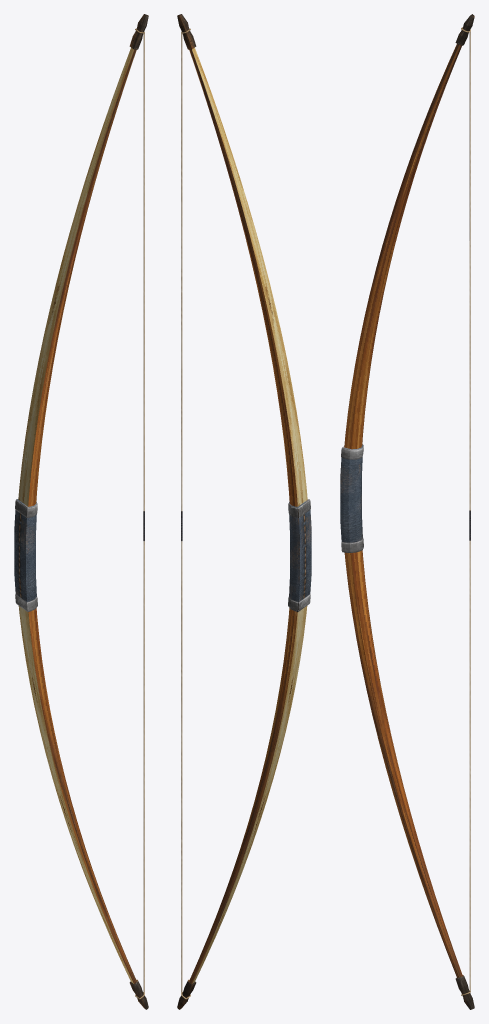
The model's file is long-bow.glb.
3 renders of one model, left to right at view 1: azimuth 30°, elevation 25°; view 2: azimuth 150°, elevation 25°; view 3: azimuth 330°, elevation 25°, orthographic.
Visible parts, largest first — view 1: Continuous_D_Section_Yew_Stave, Slate_Blue_Leather_Hand_Grip, Taut_Flax_Bowstring, Two_Grooved_Dark_Horn_Nocks, Two_Fitted_Steel_Grip_Bands; view 2: Continuous_D_Section_Yew_Stave, Slate_Blue_Leather_Hand_Grip, Taut_Flax_Bowstring, Two_Grooved_Dark_Horn_Nocks, Two_Fitted_Steel_Grip_Bands; view 3: Continuous_D_Section_Yew_Stave, Taut_Flax_Bowstring, Slate_Blue_Leather_Hand_Grip, Two_Grooved_Dark_Horn_Nocks, Two_Fitted_Steel_Grip_Bands.
Boxes of the visible parts, bbox=[...] form: Continuous_D_Section_Yew_Stave: bbox=[18, 47, 136, 983]; Slate_Blue_Leather_Hand_Grip: bbox=[14, 510, 36, 601]; Taut_Flax_Bowstring: bbox=[143, 33, 144, 992]; Two_Grooved_Dark_Horn_Nocks: bbox=[129, 14, 148, 1009]; Two_Fitted_Steel_Grip_Bands: bbox=[15, 499, 37, 611]; Continuous_D_Section_Yew_Stave: bbox=[189, 47, 307, 983]; Slate_Blue_Leather_Hand_Grip: bbox=[289, 510, 311, 601]; Taut_Flax_Bowstring: bbox=[181, 33, 182, 992]; Two_Grooved_Dark_Horn_Nocks: bbox=[177, 14, 196, 1009]; Two_Fitted_Steel_Grip_Bands: bbox=[288, 499, 310, 611]; Continuous_D_Section_Yew_Stave: bbox=[344, 44, 462, 977]; Taut_Flax_Bowstring: bbox=[469, 32, 470, 992]; Slate_Blue_Leather_Hand_Grip: bbox=[340, 456, 362, 542]; Two_Grooved_Dark_Horn_Nocks: bbox=[455, 14, 474, 1009]; Two_Fitted_Steel_Grip_Bands: bbox=[341, 444, 363, 552].
Bounding box in the file's own units: 0.2446 × 1.81 × 0.0392.
Materials: 1 (1 with a texture image).
